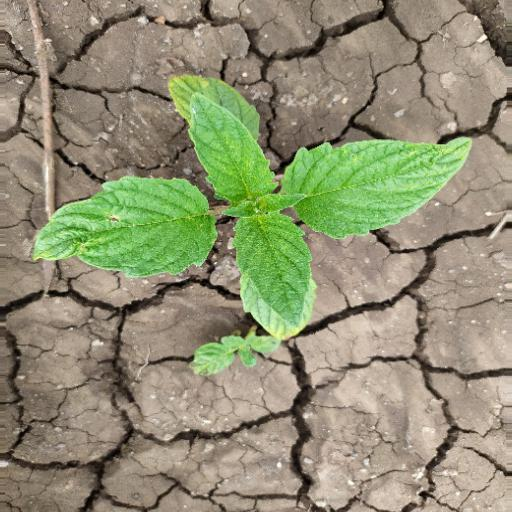crop: (23, 68, 480, 336)
